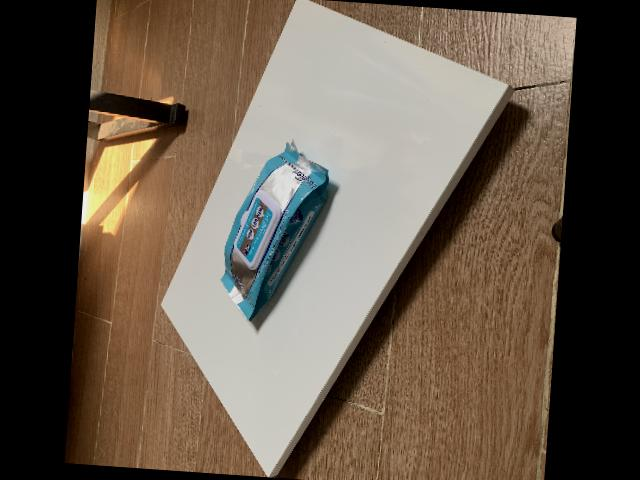Let-green_alcohol_wipes: (220, 139, 329, 320)
